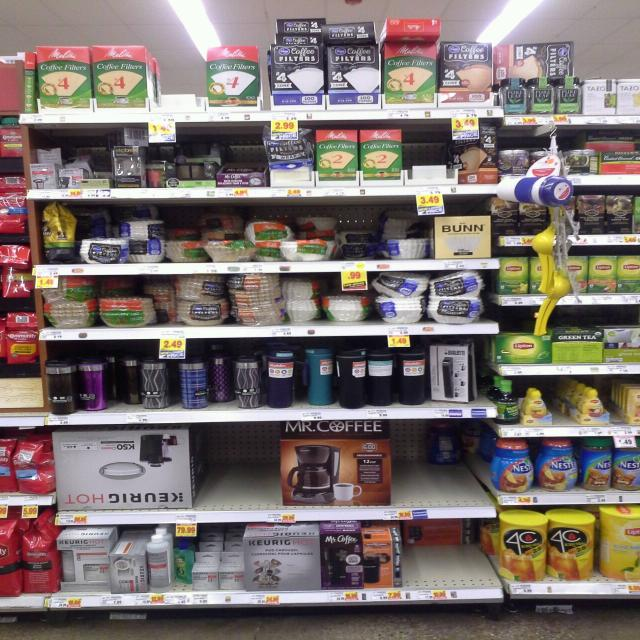void: (395, 420, 442, 521), (200, 425, 243, 529), (157, 42, 202, 128)
